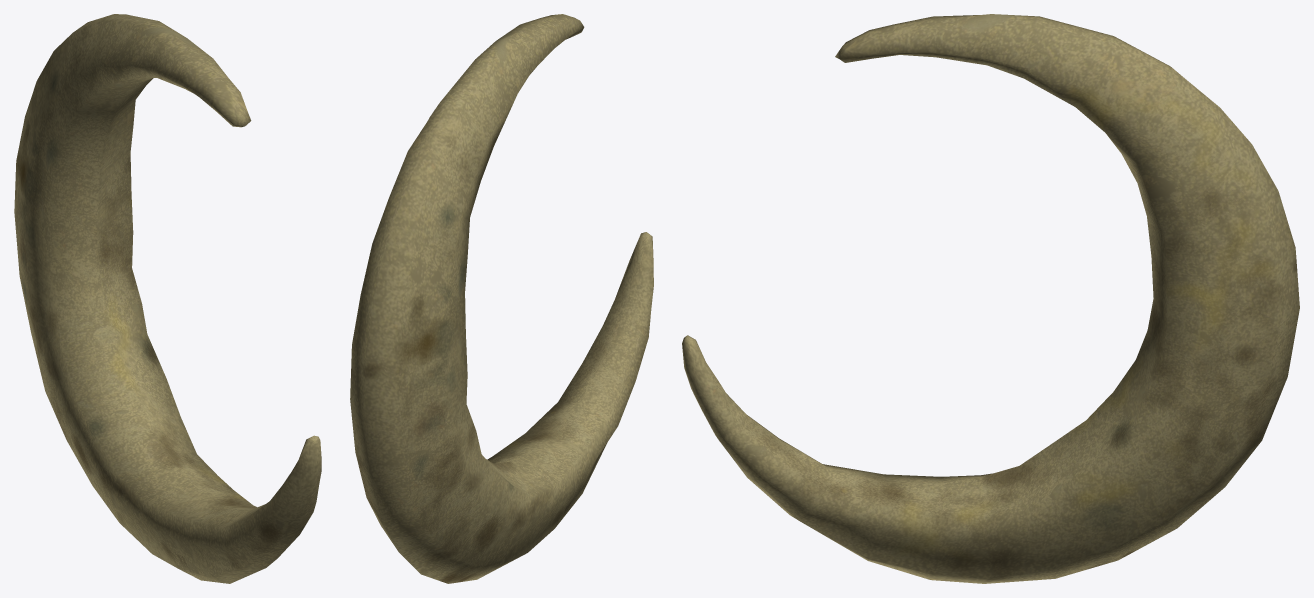
Rendered from moon.gltf.
3 views of the same model, side by side, from view 1: azimuth 30°, elevation 25°; view 2: azimuth 150°, elevation 25°; view 3: azimuth 270°, elevation 25° (orthographic). The views are drawn at different scales.
Parts seen in each view (by area): view 1: Crescent; view 2: Crescent; view 3: Crescent.
Boxes of the visible parts, x1,y1,x2,y2 form: Crescent: (14, 14, 321, 583); Crescent: (350, 14, 653, 583); Crescent: (682, 14, 1299, 583).
Size of the model in its own units: 0.175 by 0.9793 by 0.9622.
1 material, 1 textured.
